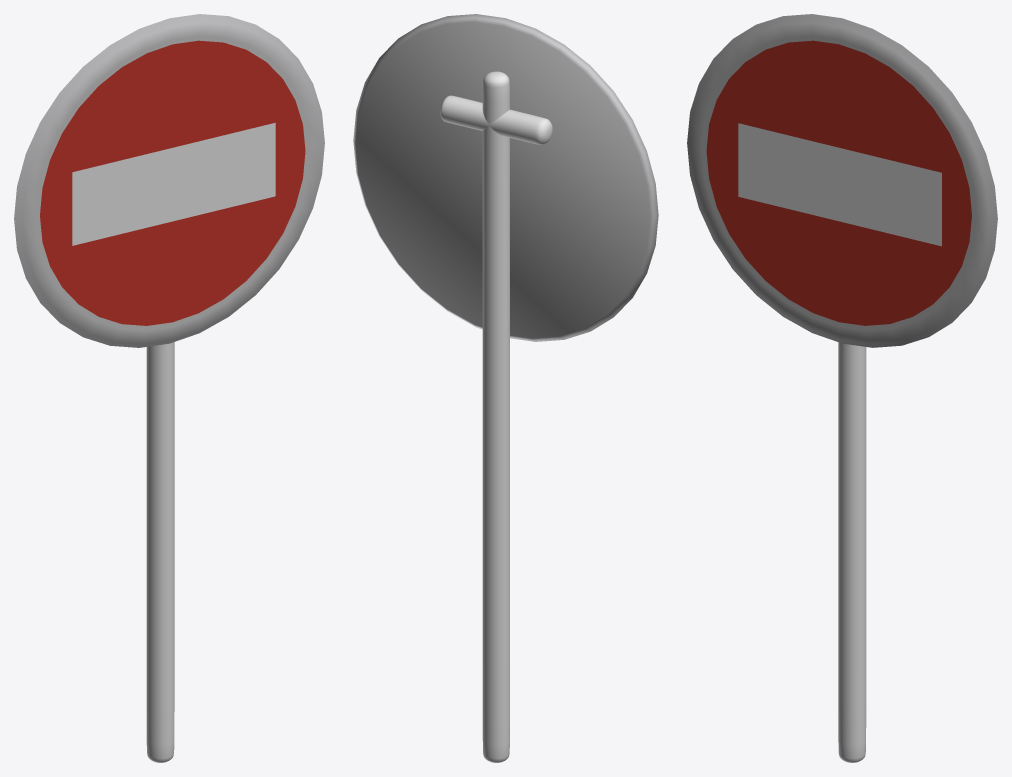
The model's file is No_entry.fbx.
The picture shows the model from 3 angles, left to right: view 1: azimuth 30°, elevation 25°; view 2: azimuth 150°, elevation 25°; view 3: azimuth 330°, elevation 25°; orthographic projection.
Visible parts, largest first — view 1: Sign_blue.002, Plane.003, Pole.003; view 2: Sign_blue.002, Pole.003; view 3: Sign_blue.002, Plane.003, Pole.003.
Part boxes in pixels (<box>): Sign_blue.002: <box>14,14,324,347</box>; Plane.003: <box>72,122,275,245</box>; Pole.003: <box>146,342,174,762</box>; Sign_blue.002: <box>353,14,658,341</box>; Pole.003: <box>440,71,552,762</box>; Sign_blue.002: <box>687,14,997,347</box>; Plane.003: <box>738,123,941,246</box>; Pole.003: <box>838,342,866,762</box>.
Size of the model in its own units: 121 by 278 by 13.27.
